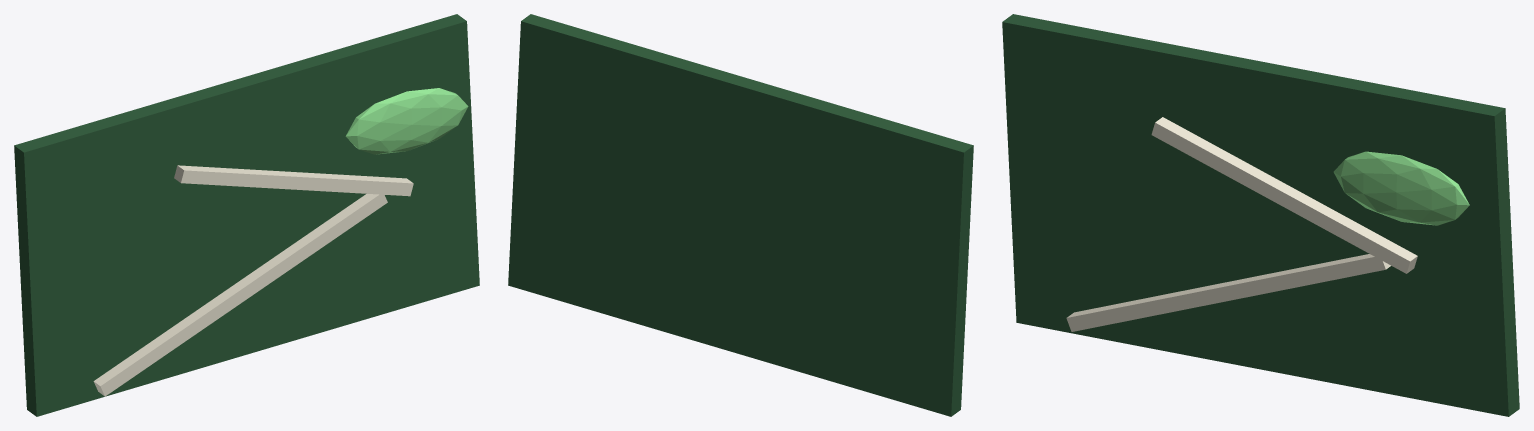
File: 01_weathering_wear_overlay_1.glb
3 renders of one model, left to right at view 1: azimuth 30°, elevation 25°; view 2: azimuth 150°, elevation 25°; view 3: azimuth 330°, elevation 25°, orthographic. The views are drawn at different scales.
Parts seen in each view (by area): view 1: wear_plate, scratch_a, rust_or_moss_spot, scratch_b; view 2: wear_plate; view 3: wear_plate, rust_or_moss_spot, scratch_b, scratch_a.
Boxes of the visible parts, bbox=[...] form: wear_plate: bbox=[14, 14, 479, 416]; scratch_a: bbox=[93, 194, 387, 396]; rust_or_moss_spot: bbox=[345, 88, 468, 154]; scratch_b: bbox=[174, 165, 413, 196]; wear_plate: bbox=[508, 14, 973, 416]; wear_plate: bbox=[1002, 14, 1519, 416]; rust_or_moss_spot: bbox=[1333, 151, 1469, 225]; scratch_b: bbox=[1151, 117, 1417, 273]; scratch_a: bbox=[1066, 254, 1390, 331].
Bounding box in the file's own units: 1.34 × 0.8144 × 0.134.
